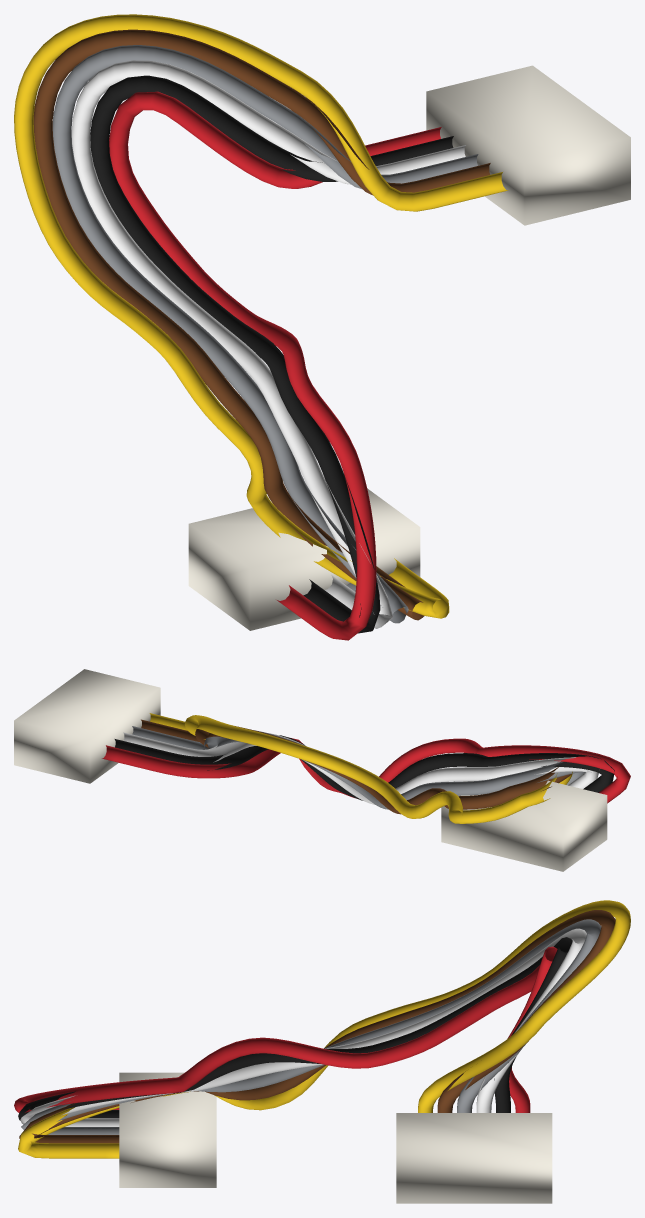
The model's file is body.glb.
3 views of the same model, one above another, from view 1: azimuth 30°, elevation 25°; view 2: azimuth 150°, elevation 25°; view 3: azimuth 270°, elevation 25° (orthographic). The views are drawn at different scales.
Visible parts, largest first — view 1: conductor_p6, end_fc_housing, conductor_p5, conductor_p1, conductor_p4, conductor_p3, conductor_p2, end_o4_housing; view 2: end_fc_housing, end_o4_housing, conductor_p1, conductor_p6, conductor_p2, conductor_p3, conductor_p4, conductor_p5; view 3: end_fc_housing, conductor_p6, conductor_p1, end_o4_housing, conductor_p5, conductor_p4, conductor_p3, conductor_p2.
Boxes of the visible parts, x1,y1,x2,y2 form: conductor_p6: (14, 14, 508, 618); end_fc_housing: (426, 65, 630, 225); conductor_p5: (33, 29, 490, 620); conductor_p1: (109, 91, 441, 640); conductor_p4: (52, 45, 478, 623); conductor_p3: (71, 60, 465, 628); conductor_p2: (90, 75, 453, 633); end_o4_housing: (188, 488, 420, 630); end_fc_housing: (14, 669, 160, 783); end_o4_housing: (441, 780, 607, 871); conductor_p1: (102, 738, 630, 803); conductor_p6: (149, 713, 572, 823); conductor_p2: (114, 735, 614, 800); conductor_p3: (123, 732, 598, 804); conductor_p4: (132, 726, 585, 809); conductor_p5: (141, 719, 571, 814); end_fc_housing: (396, 1113, 552, 1203); conductor_p6: (18, 900, 630, 1158); conductor_p1: (14, 946, 557, 1112); end_o4_housing: (119, 1072, 216, 1187); conductor_p5: (19, 910, 615, 1143); conductor_p4: (21, 919, 601, 1134); conductor_p3: (20, 928, 586, 1126); conductor_p2: (18, 937, 572, 1120).
Size of the model in its own units: 0.0261 by 0.0153 by 0.0316.
